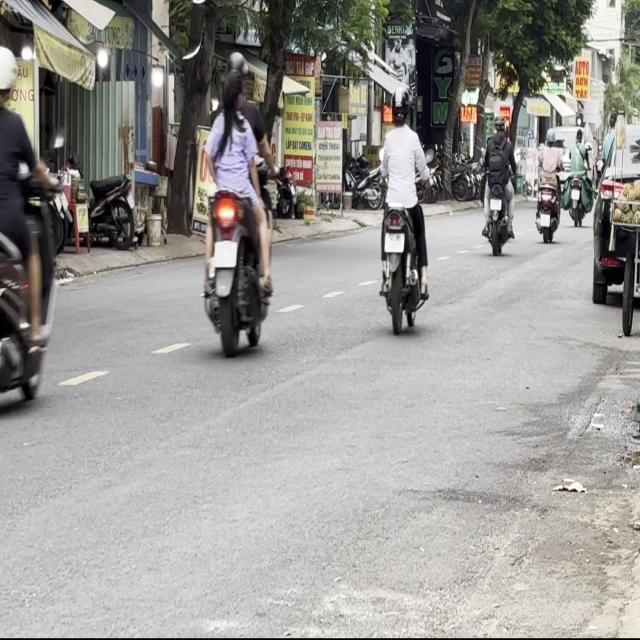helmet: (390, 82, 410, 125), (225, 49, 246, 77)
licenseplate: (198, 51, 274, 356), (374, 81, 433, 331)
motorcyclist: (221, 70, 245, 113)
nohelmet: (213, 239, 236, 265), (384, 233, 403, 252)
